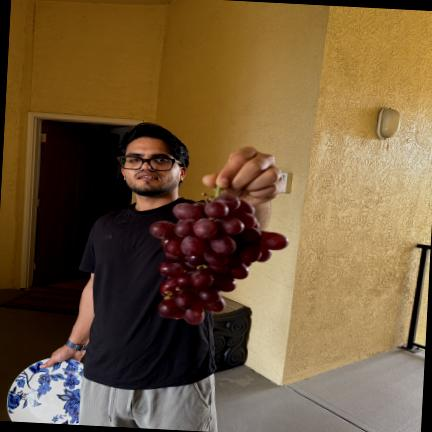grape_cluster: (150, 194, 288, 325), (216, 187, 220, 194)
